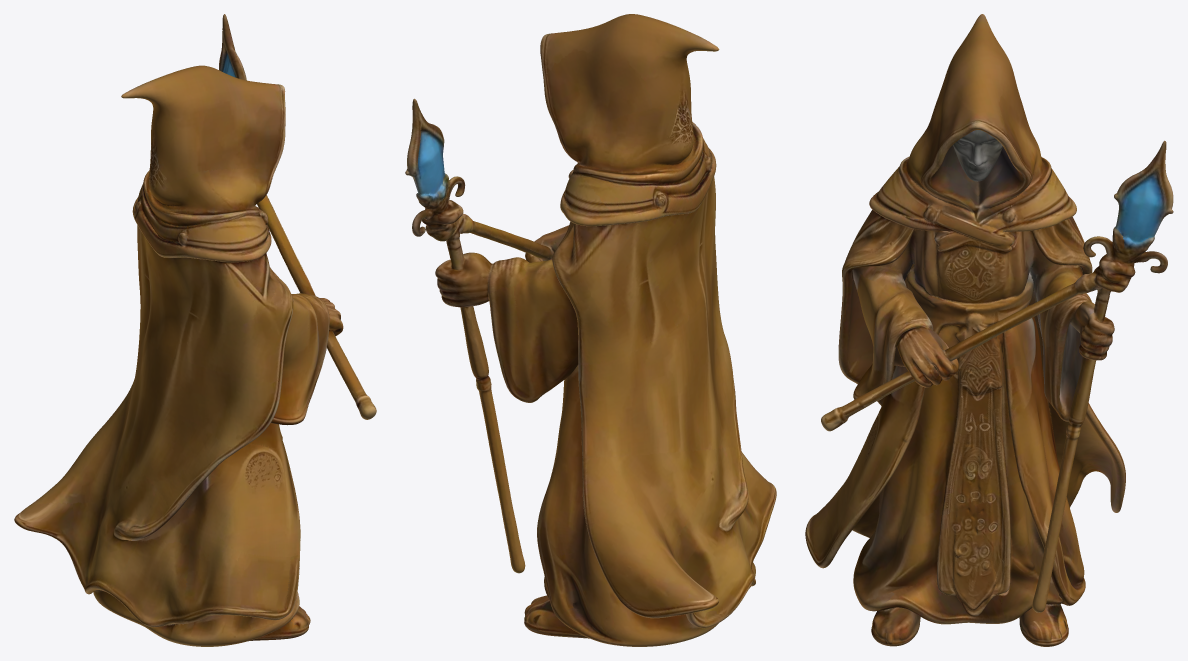
Rendered from mesh.glb.tmp-opt.glb.
The picture shows the model from 3 angles, left to right: view 1: azimuth 30°, elevation 25°; view 2: azimuth 150°, elevation 25°; view 3: azimuth 270°, elevation 25°; orthographic projection. The views are drawn at different scales.
Parts seen in each view (by area): view 1: tripo_node_88ad7a76-a922-4957-afc1-7630b62d9458; view 2: tripo_node_88ad7a76-a922-4957-afc1-7630b62d9458; view 3: tripo_node_88ad7a76-a922-4957-afc1-7630b62d9458.
Boxes of the visible parts, x1,y1,x2,y2 form: tripo_node_88ad7a76-a922-4957-afc1-7630b62d9458: [14, 14, 376, 646]; tripo_node_88ad7a76-a922-4957-afc1-7630b62d9458: [405, 14, 776, 646]; tripo_node_88ad7a76-a922-4957-afc1-7630b62d9458: [805, 14, 1173, 646].
Bounding box in the file's own units: 0.4834 × 1 × 0.5817.
Materials: 1 (1 with a texture image).
